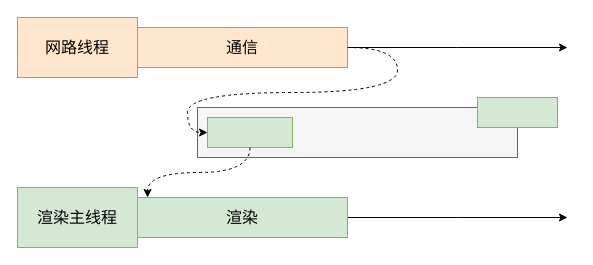
This 593x265 diagram has some shape labels left out. The centre of each missing label's shape, as x and y in pixels:
"消息队列" goes at point 517,112.
"渲染任务" goes at point 249,132.
